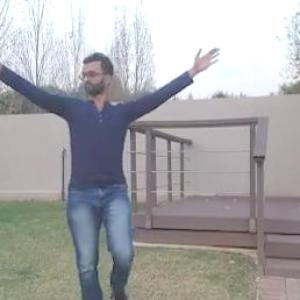takeoff: (0, 44, 232, 299)
